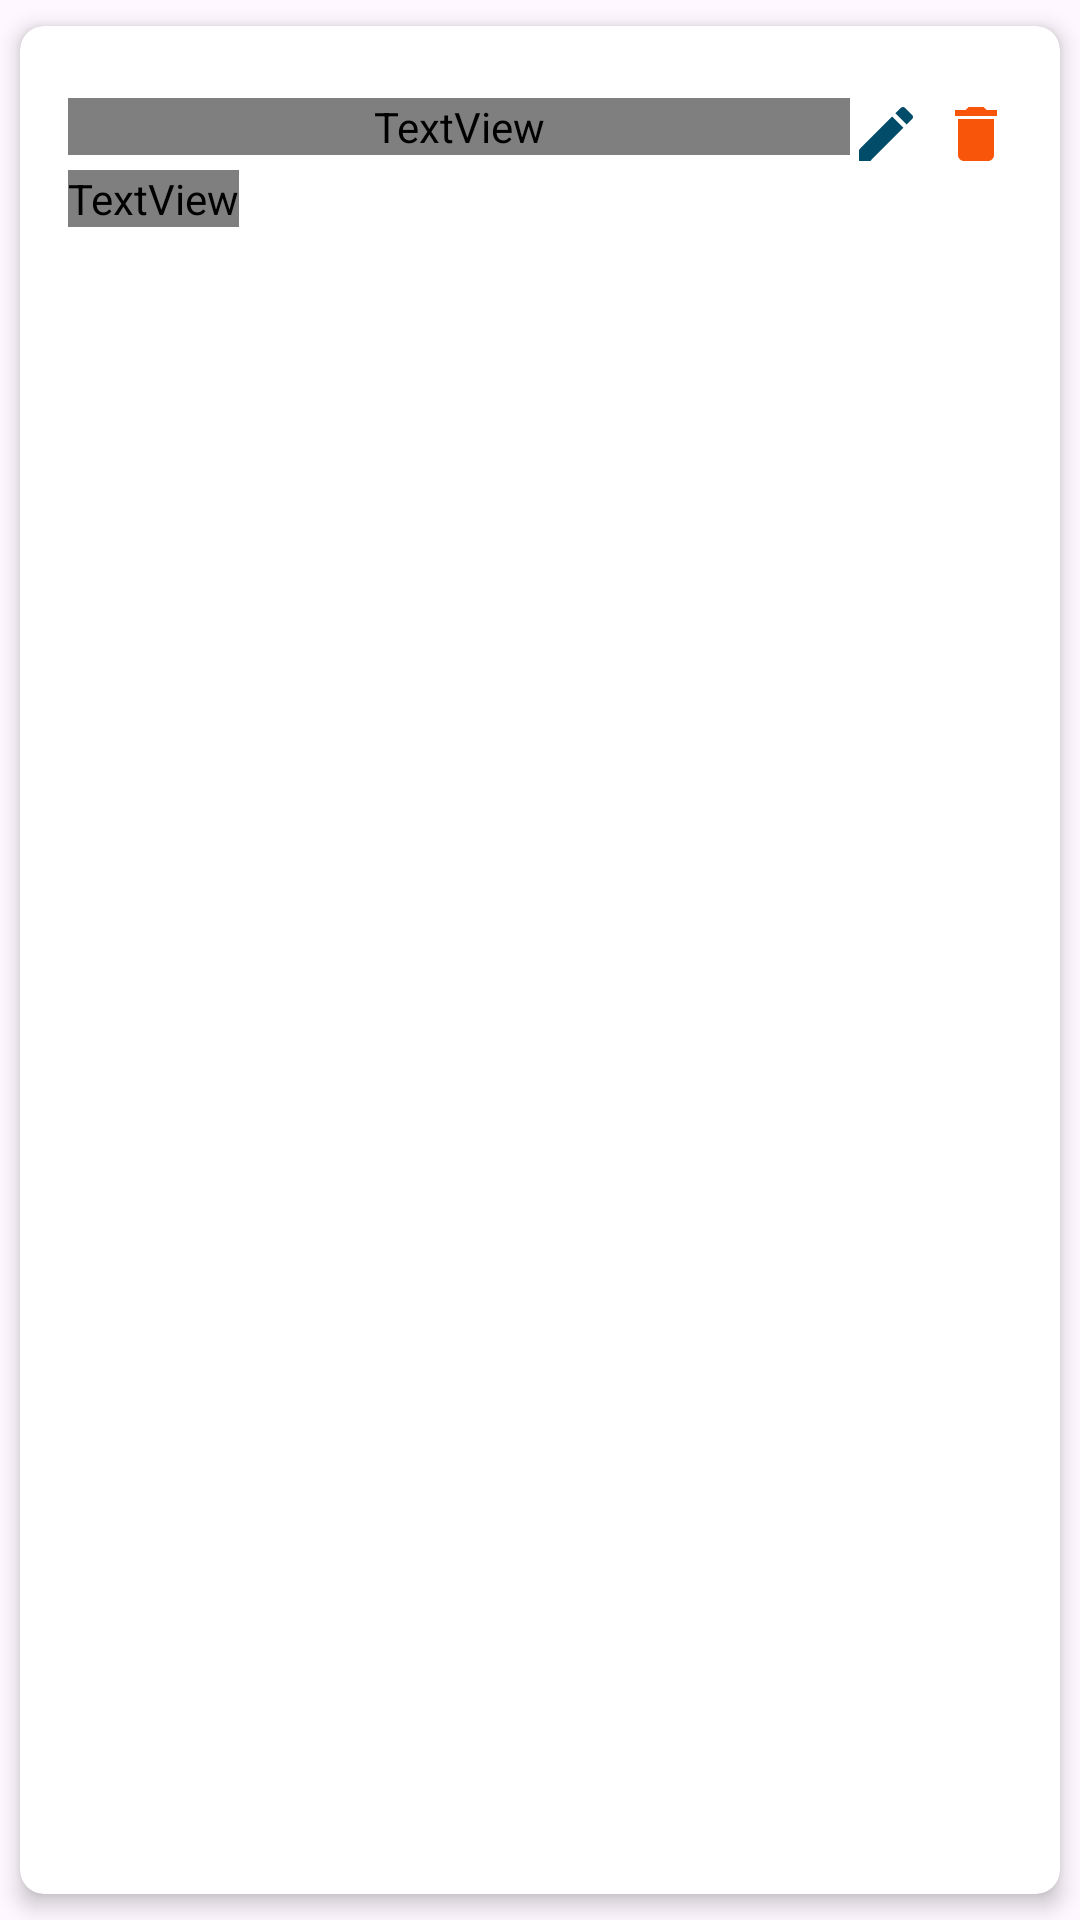

Where icons sit on this 1080 × 1920 app screen, as [x1,y1,x2,y2]:
delete: [955,107,997,161]
edit: [859,107,913,161]
